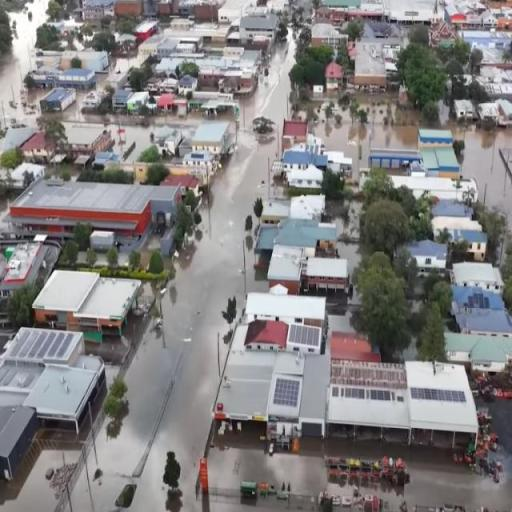flood: (0, 135, 273, 512), (0, 398, 176, 512), (442, 120, 512, 228), (241, 36, 295, 172), (325, 103, 418, 178), (0, 0, 46, 128), (81, 114, 202, 161), (177, 450, 199, 512)
house: (336, 357, 478, 465), (0, 331, 114, 454), (14, 181, 163, 239), (36, 262, 140, 336), (445, 260, 512, 346), (249, 290, 327, 357), (0, 398, 39, 484), (0, 235, 50, 302), (428, 215, 490, 262), (303, 253, 348, 299), (280, 154, 326, 196), (244, 316, 288, 356), (194, 120, 236, 158), (238, 10, 279, 47), (67, 126, 114, 156), (206, 70, 254, 96), (38, 87, 77, 116), (61, 68, 95, 88), (22, 132, 47, 158), (157, 129, 181, 156), (191, 3, 222, 23), (185, 150, 216, 168), (326, 62, 344, 88), (156, 0, 177, 18), (140, 36, 158, 55), (179, 75, 196, 95), (111, 90, 128, 110), (160, 38, 178, 56), (84, 91, 101, 109), (161, 78, 178, 93), (178, 42, 196, 56), (148, 77, 158, 92)
